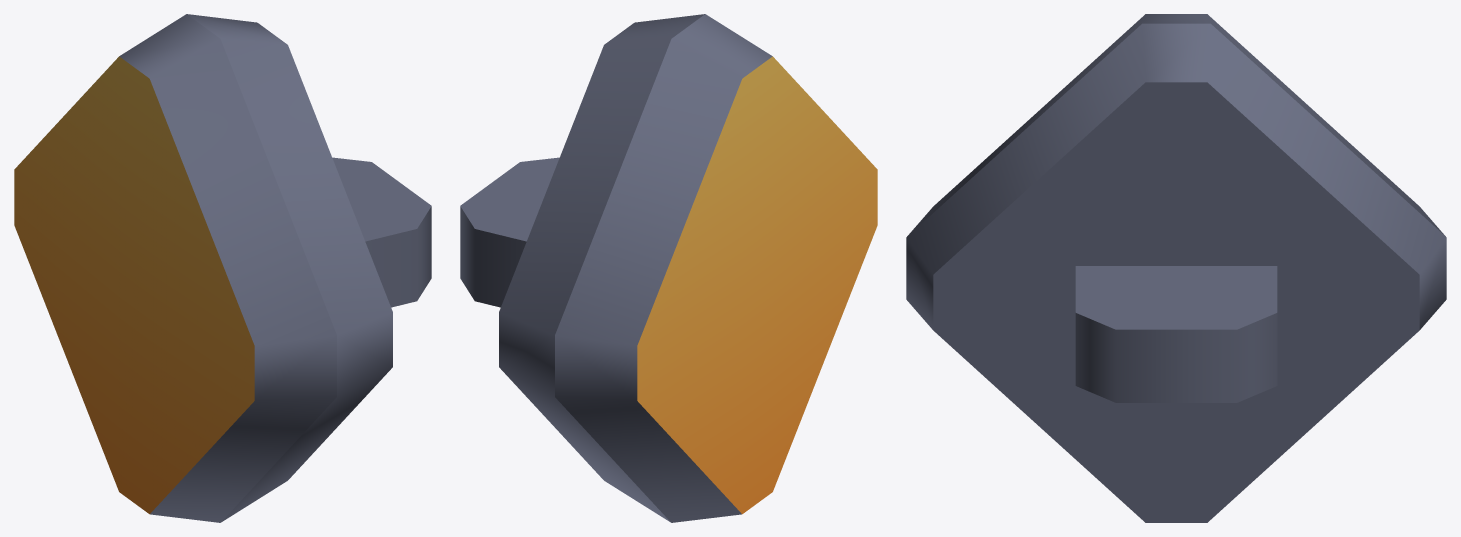
File: road-sign-object-warning.glb
The picture shows the model from 3 angles, left to right: view 1: azimuth 30°, elevation 25°; view 2: azimuth 150°, elevation 25°; view 3: azimuth 270°, elevation 25°; orthographic projection.
Parts seen in each view (by area): view 1: road-sign-object-warning; view 2: road-sign-object-warning; view 3: road-sign-object-warning.
Part boxes in pixels (x1,y1,x2,y2): road-sign-object-warning: (14, 14, 431, 522); road-sign-object-warning: (460, 14, 877, 522); road-sign-object-warning: (906, 14, 1446, 522).
Size of the model in its own units: 0.0773 by 0.1338 by 0.1338.
1 material, 1 textured.
